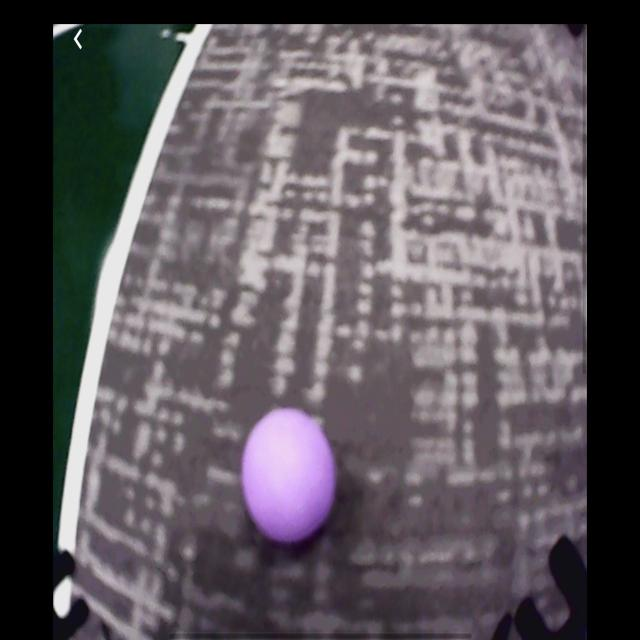ball: (244, 409, 337, 542)
